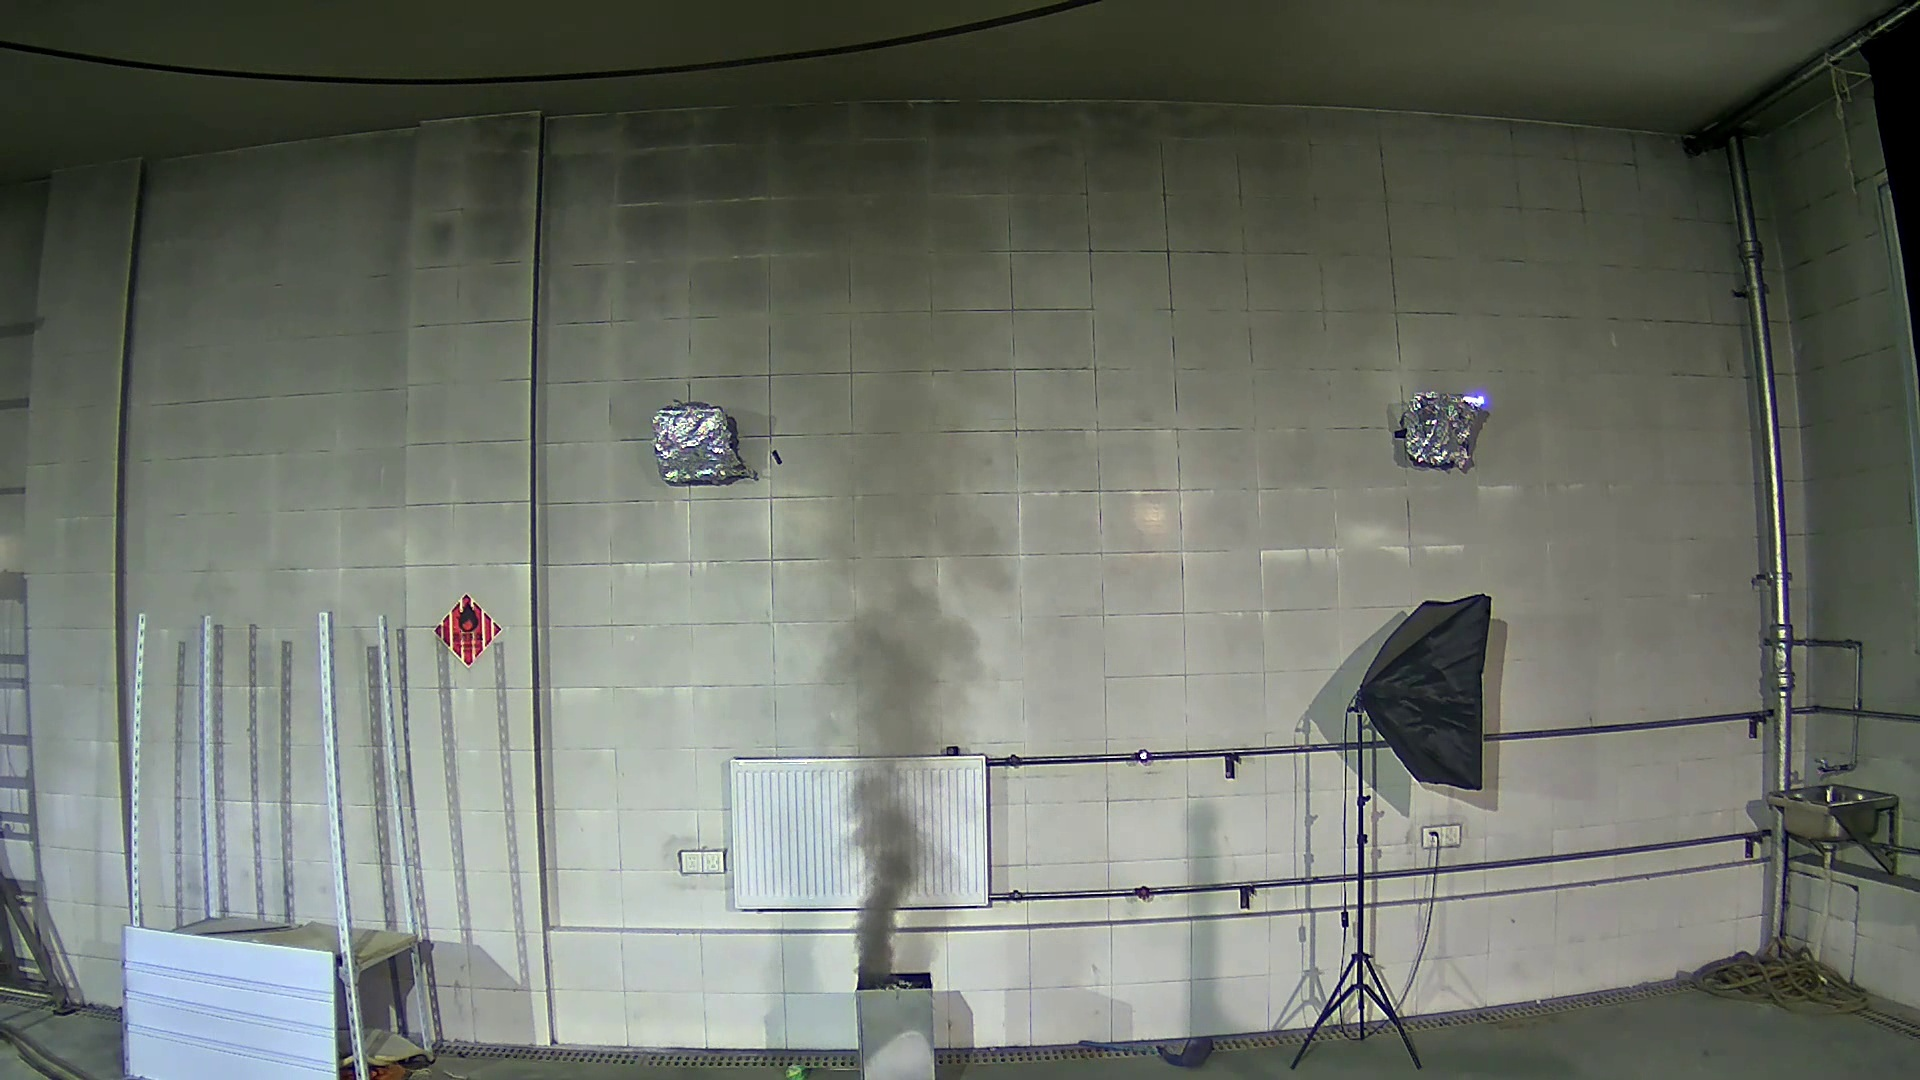smoke: (773, 305, 1017, 978)
